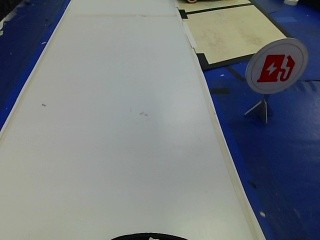battery: (242, 42, 307, 97)
